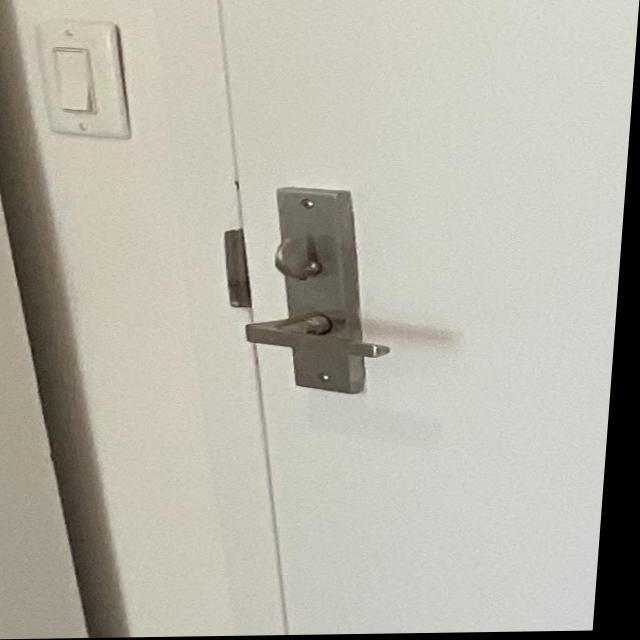door_handle: (227, 293, 426, 380)
